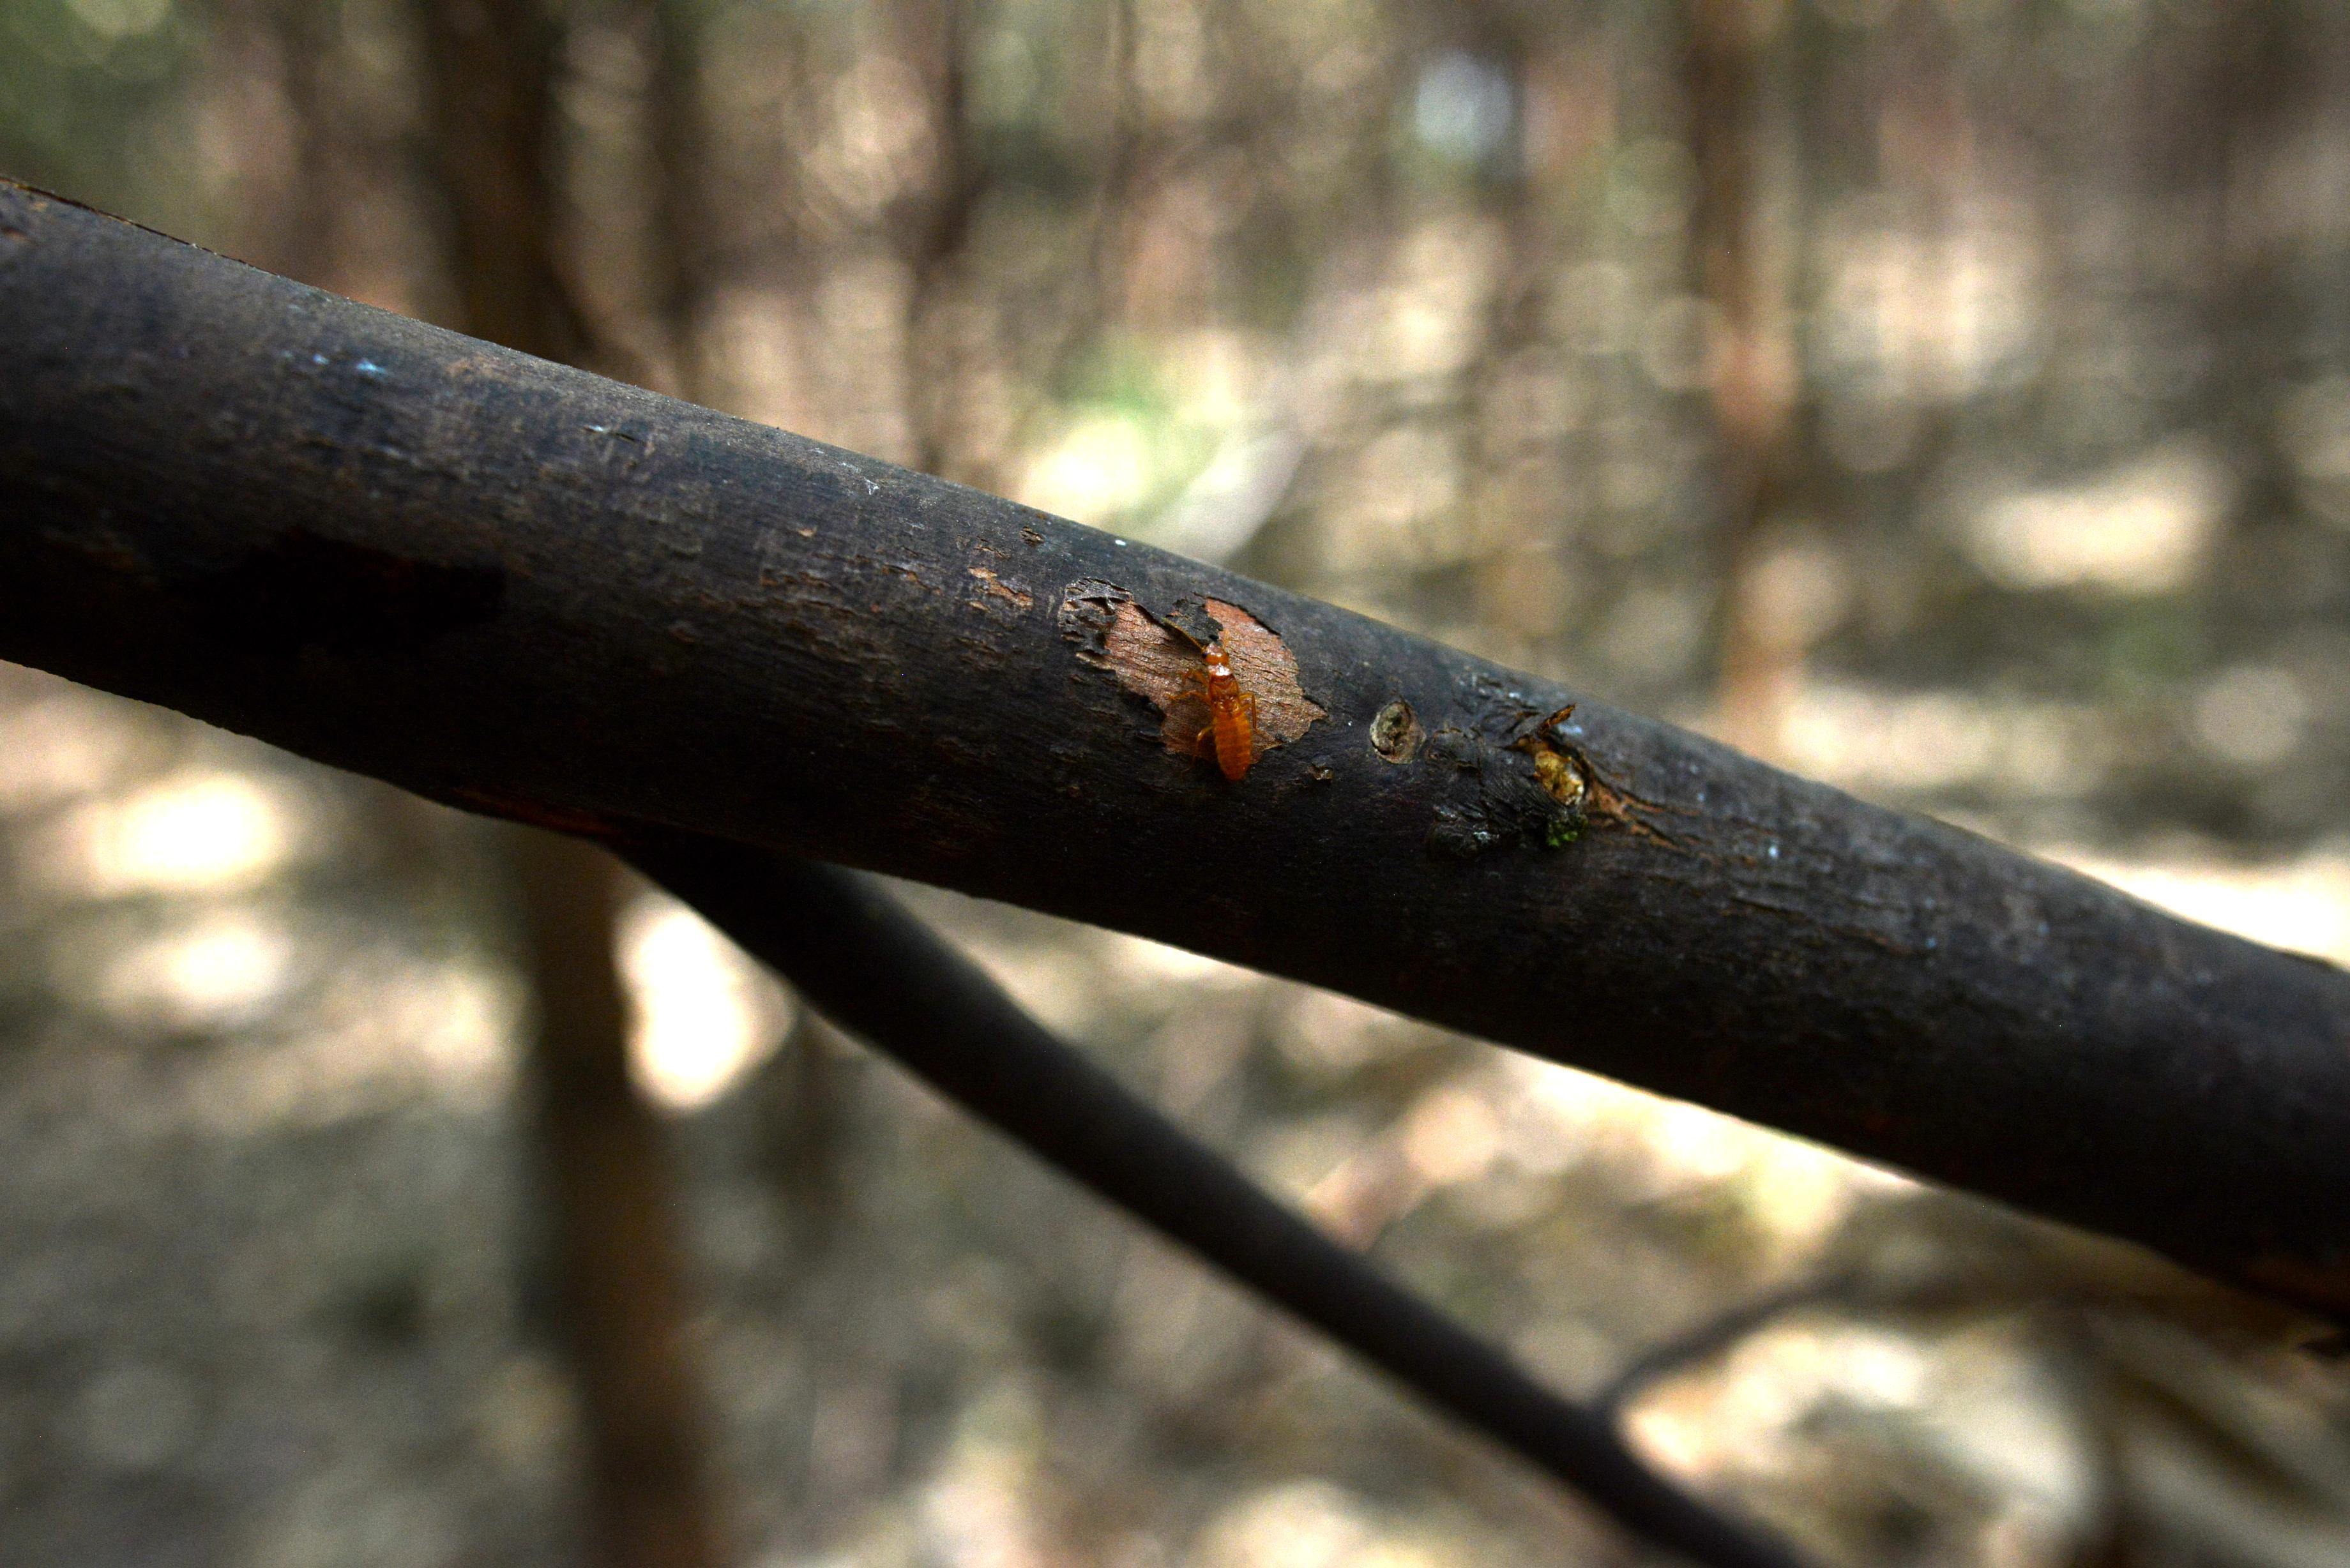Termite: (1181, 623, 1297, 828)
